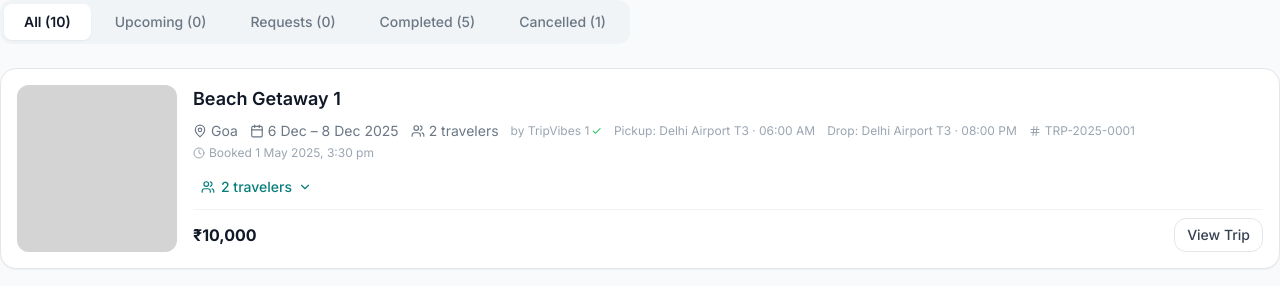
Test case: MyBookingsList › should show per-tab empty state for upcoming tab
Expected: the link "Beach Getaway 1" is shown, 193,85 -> 341,113
# Click "Upcoming" tab
Click the tab "Upcoming (0)". click: (161, 22)
box: 95,4 -> 226,40
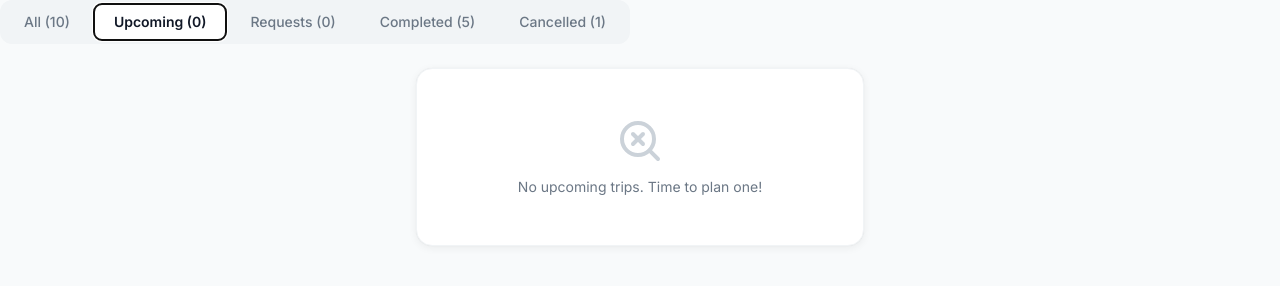
Expected: the text "No upcoming trips. Time to plan one!" is shown, 518,178 -> 762,195
